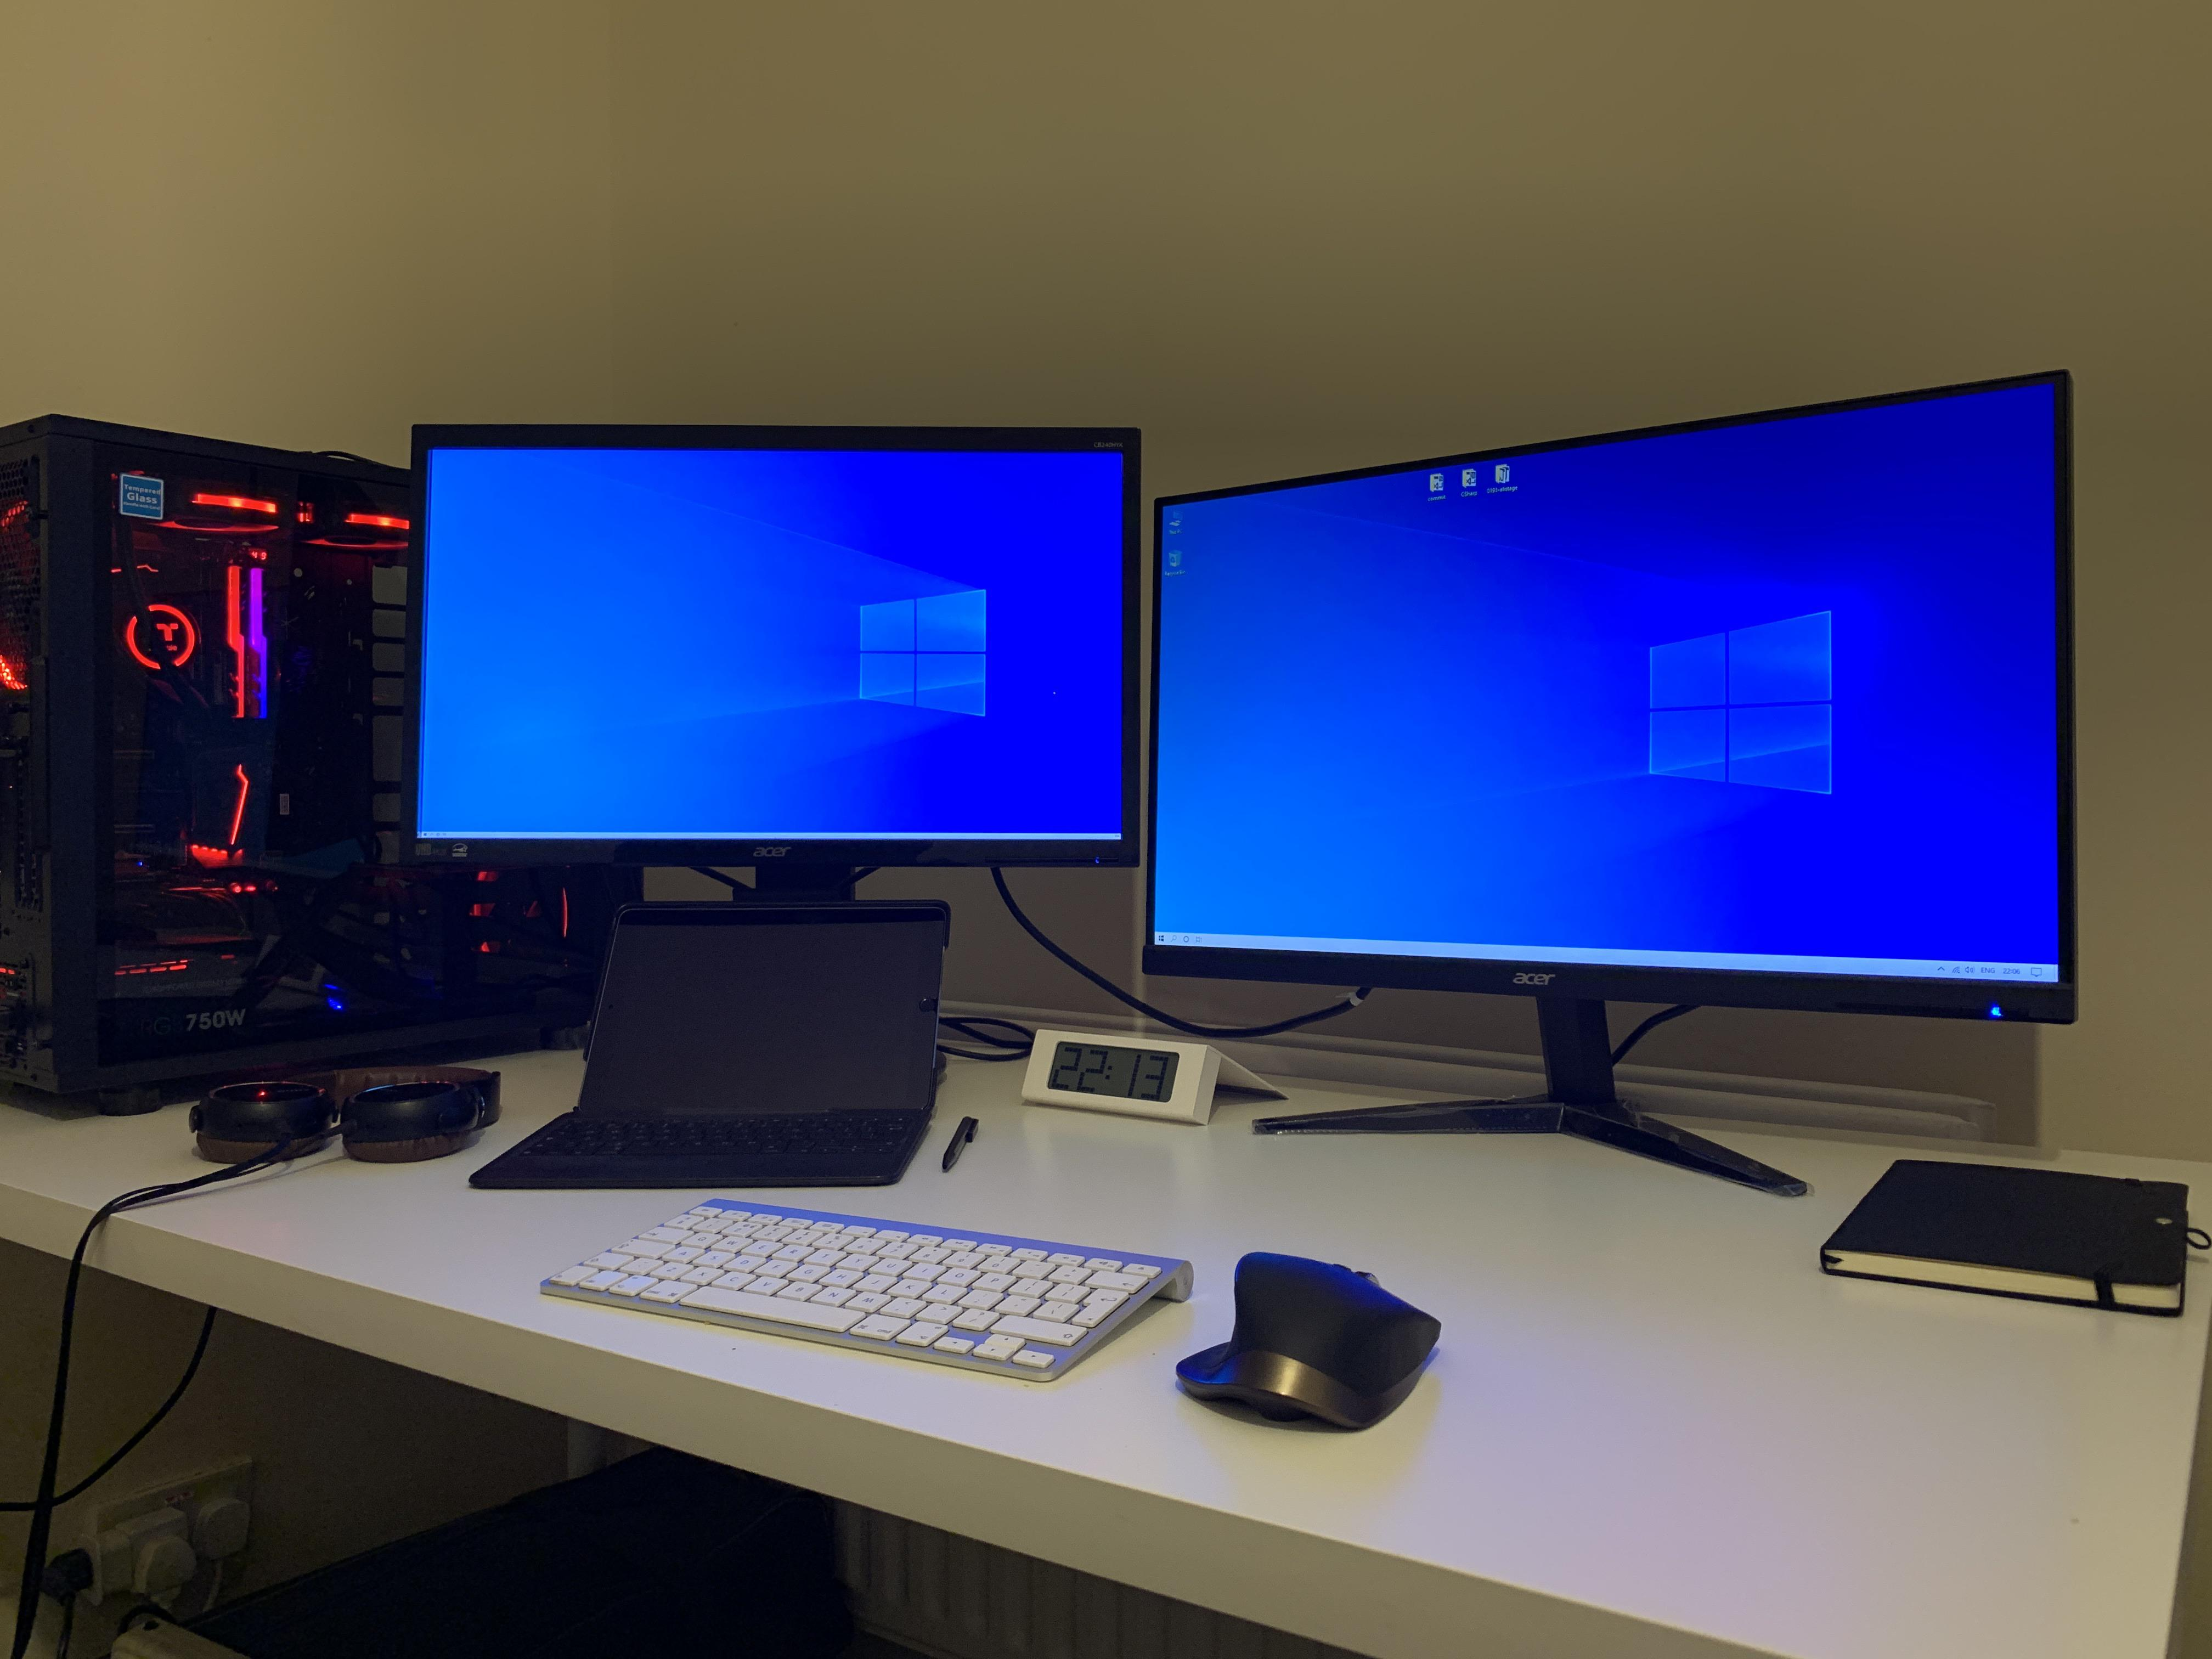Decoration (Clock): (1028, 1030, 1256, 1129)
Desk (Generic): (0, 859, 2172, 1629)
Desktop (Windows): (0, 446, 578, 1053)
Headphones: (188, 1053, 517, 1155)
Keyboard (Generic): (543, 1201, 1247, 1403)
Monitor (Landscape): (1157, 504, 2073, 1009), (420, 420, 1139, 857)
Mouse (Ergonomic): (1169, 1227, 1505, 1455)
Notebook: (1818, 1133, 2195, 1310)
Tablet (iPad): (594, 904, 942, 1110)
